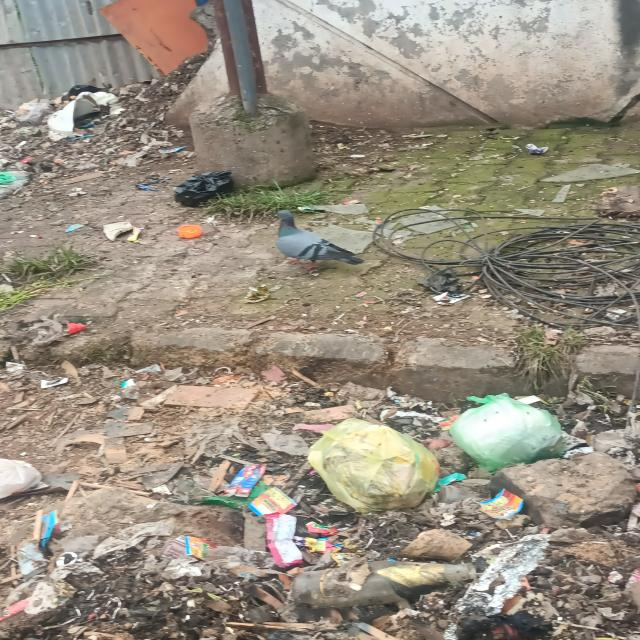garbage: (217, 399, 565, 640), (3, 84, 169, 170)
